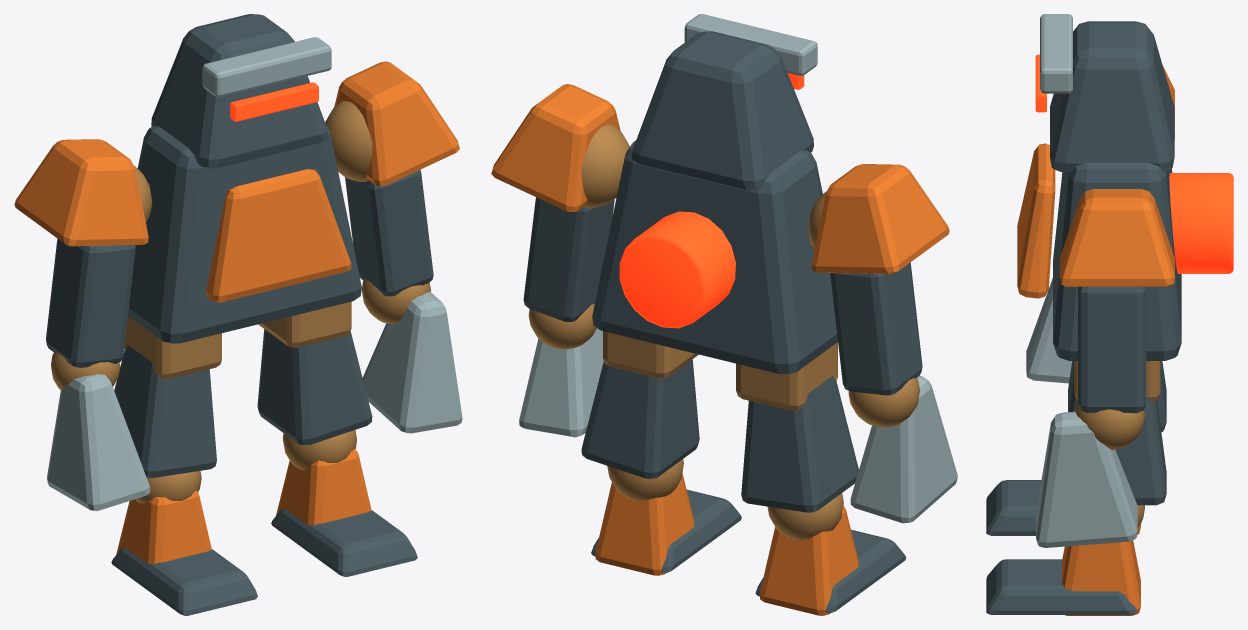
The model's file is neonContainmentWardenA.glb.
3 renders of one model, left to right at view 1: azimuth 30°, elevation 25°; view 2: azimuth 150°, elevation 25°; view 3: azimuth 270°, elevation 25°, orthographic. The views are drawn at different scales.
Parts seen in each view (by area): view 1: Containment Warden A — Warden A graphite, Containment Warden A — Warden A hazard ceramic, Containment Warden A — Warden A steel, Containment Warden A — Warden A mechanics, Containment Warden A — Warden A optic; view 2: Containment Warden A — Warden A graphite, Containment Warden A — Warden A hazard ceramic, Containment Warden A — Warden A steel, Containment Warden A — Warden A mechanics, Containment Warden A — Warden A optic; view 3: Containment Warden A — Warden A graphite, Containment Warden A — Warden A hazard ceramic, Containment Warden A — Warden A steel, Containment Warden A — Warden A optic, Containment Warden A — Warden A mechanics.
Boxes of the visible parts, x1,y1,x2,y2 form: Containment Warden A — Warden A graphite: (46,14,433,615); Containment Warden A — Warden A hazard ceramic: (14,61,459,564); Containment Warden A — Warden A steel: (47,37,462,511); Containment Warden A — Warden A mechanics: (51,101,430,503); Containment Warden A — Warden A optic: (230,82,318,121); Containment Warden A — Warden A graphite: (523,31,922,613); Containment Warden A — Warden A hazard ceramic: (491,84,949,615); Containment Warden A — Warden A steel: (519,14,957,523); Containment Warden A — Warden A mechanics: (528,124,919,540); Containment Warden A — Warden A optic: (619,73,804,328); Containment Warden A — Warden A graphite: (986,21,1181,614); Containment Warden A — Warden A hazard ceramic: (1017,65,1174,615); Containment Warden A — Warden A steel: (1026,14,1137,547); Containment Warden A — Warden A optic: (1035,54,1233,273); Containment Warden A — Warden A mechanics: (1074,361,1160,528).
Bounding box in the file's own units: 1.83 × 2.3 × 0.9779.
